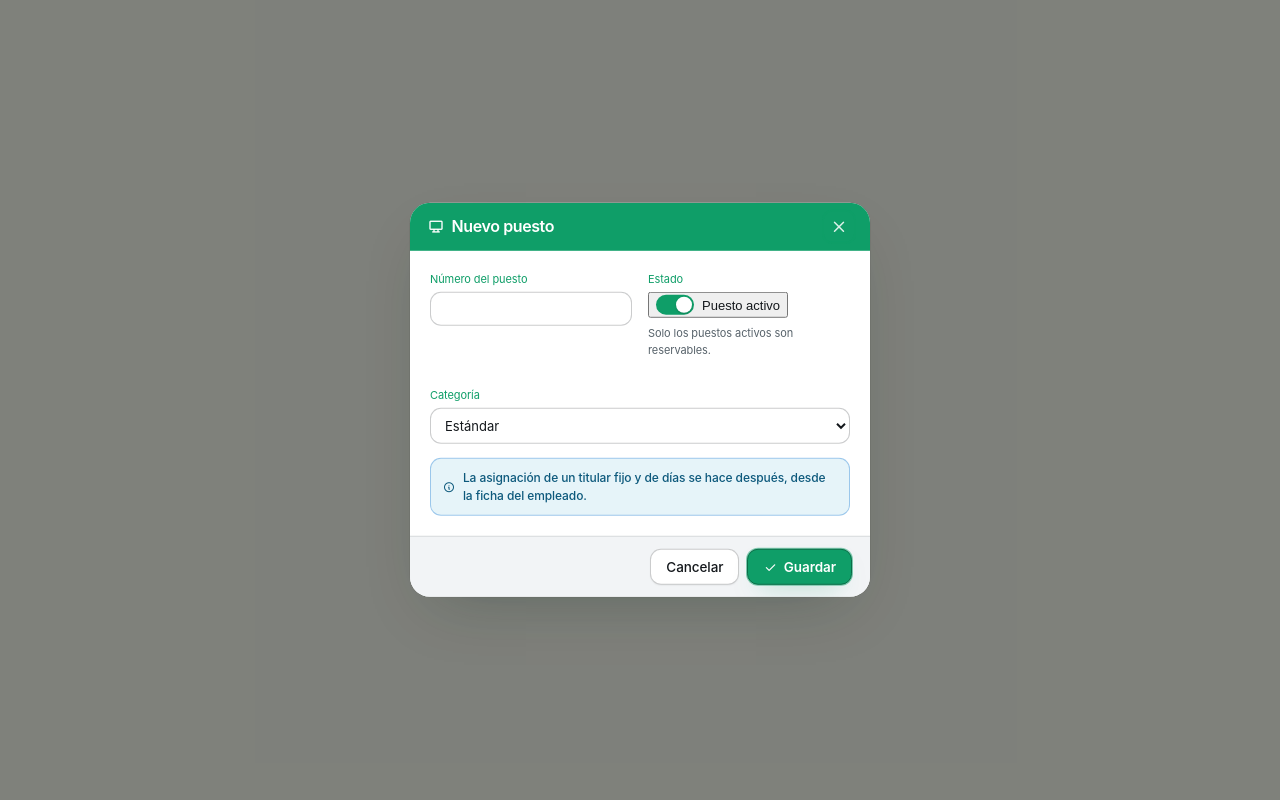
Test: DeskFormModal › should_return_400_when_desk_number_invalid_from_server
Type "10" into the number field labelled "Número del puesto".
click(531, 309); type("10")  # box [430,292,632,326]
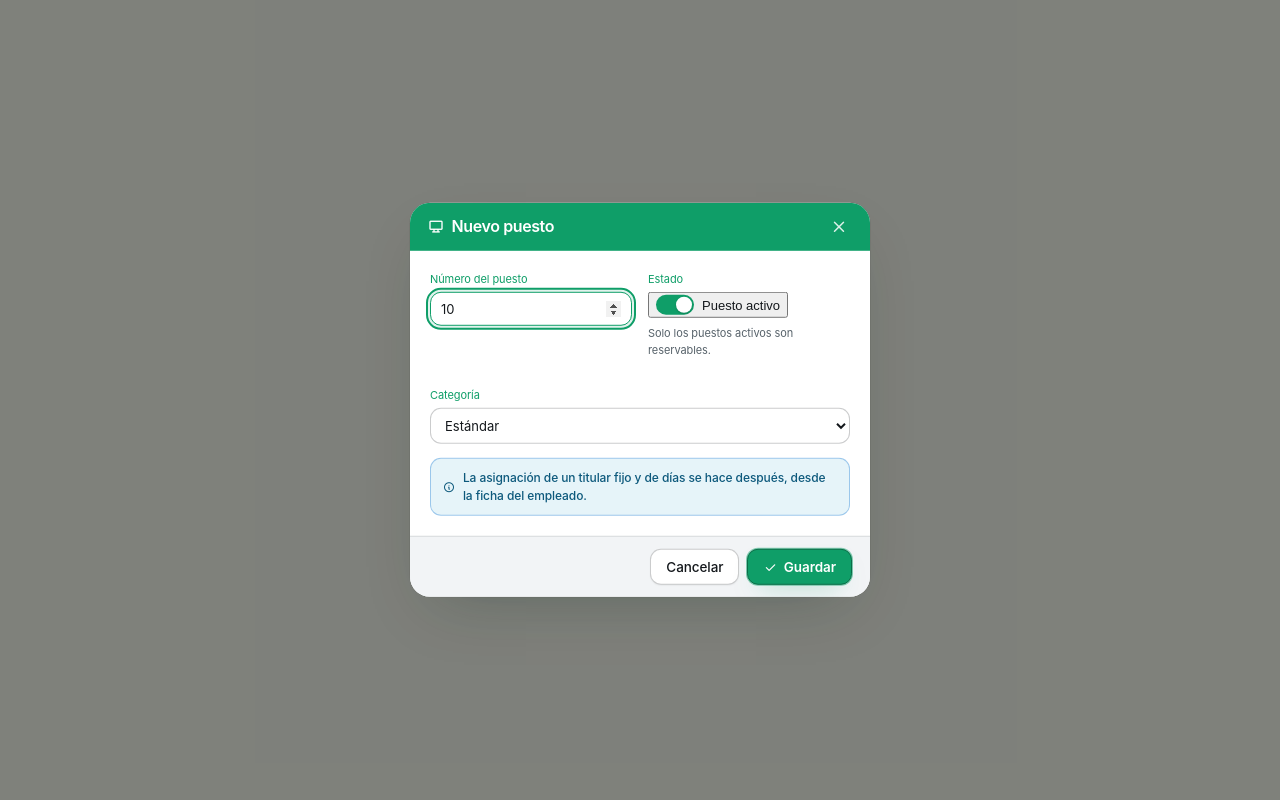
Click the button "Guardar".
click(800, 567)  # box [747,549,852,585]
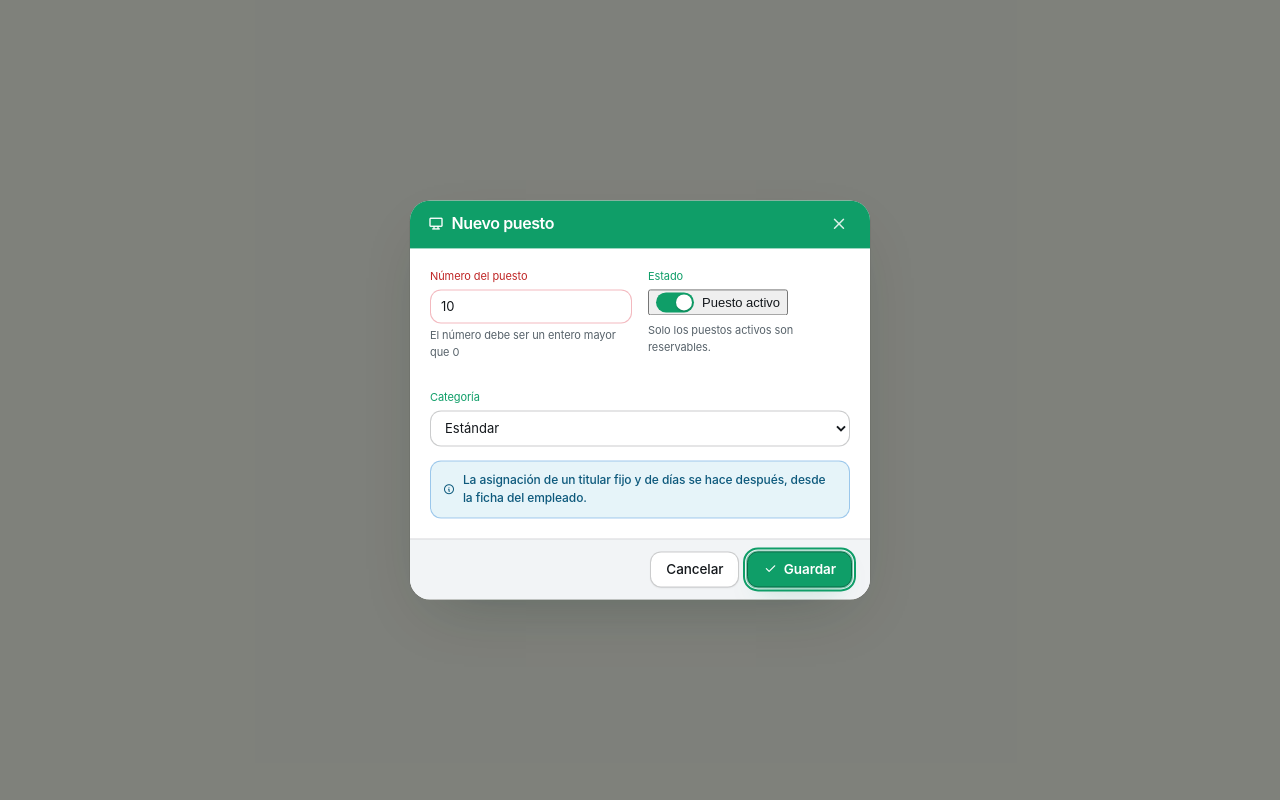
Check: the text "El número debe ser un entero mayor que 0" is shown, box [430,328,632,362]
